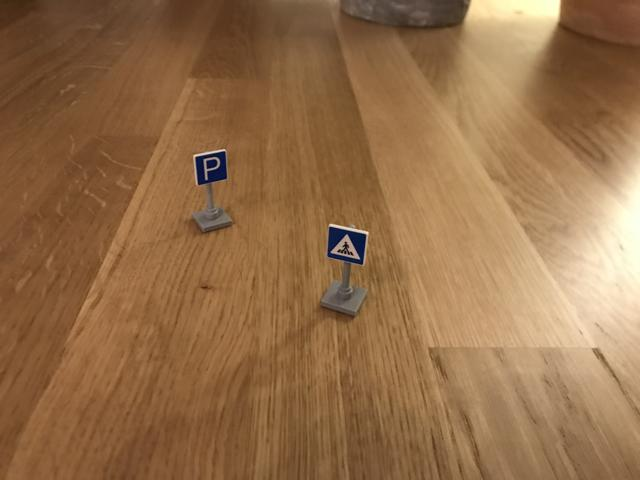fußgängerüberweg: (326, 221, 367, 270)
parken: (189, 147, 230, 186)
